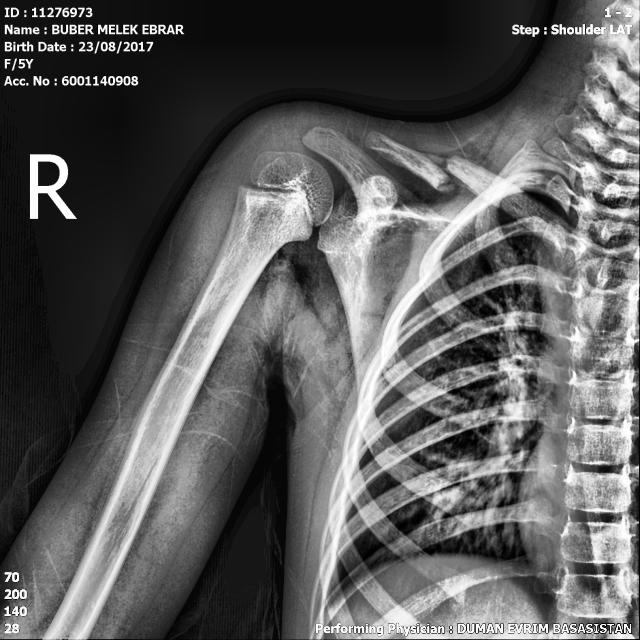Fracture: (418, 140, 475, 204)
